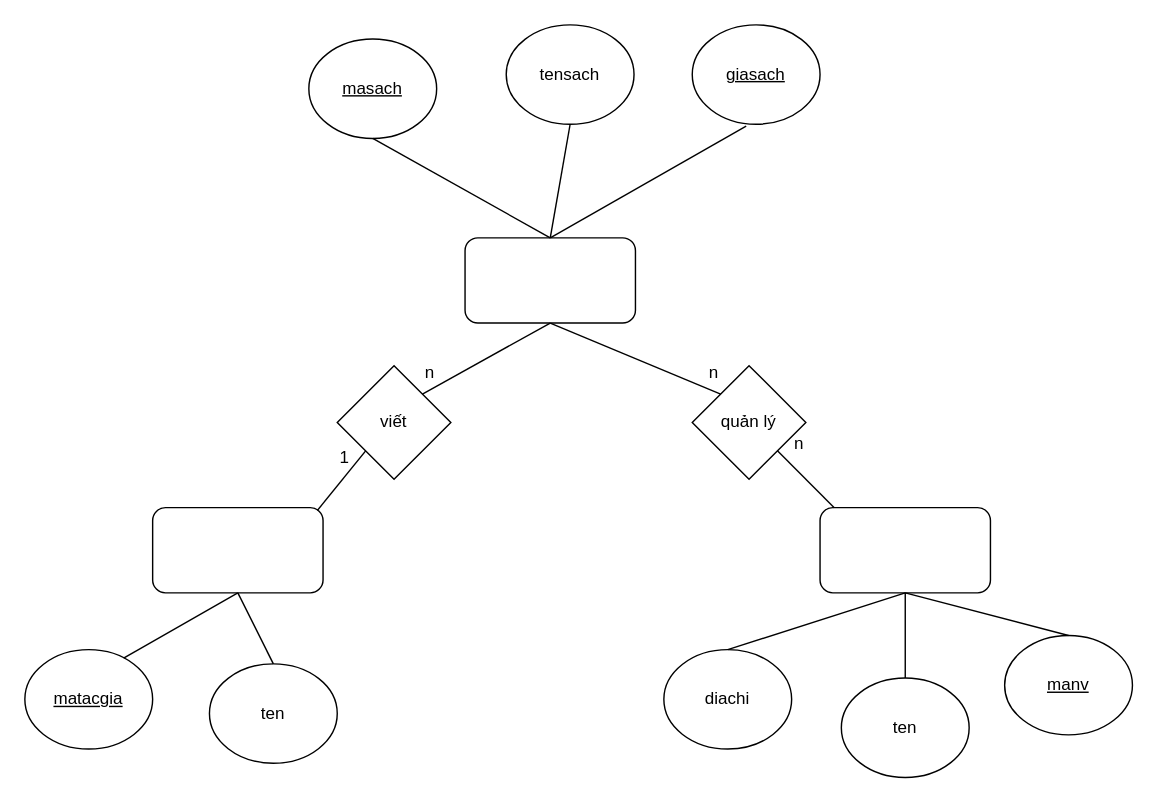
Image size: 1157x802. Some labels were removed from this diagram. Each missing label, with the centre of its shape:
"nhân viên" belongs at (x=904, y=549).
"sách" belongs at (x=549, y=279).
"tác giả" belongs at (x=237, y=549).
